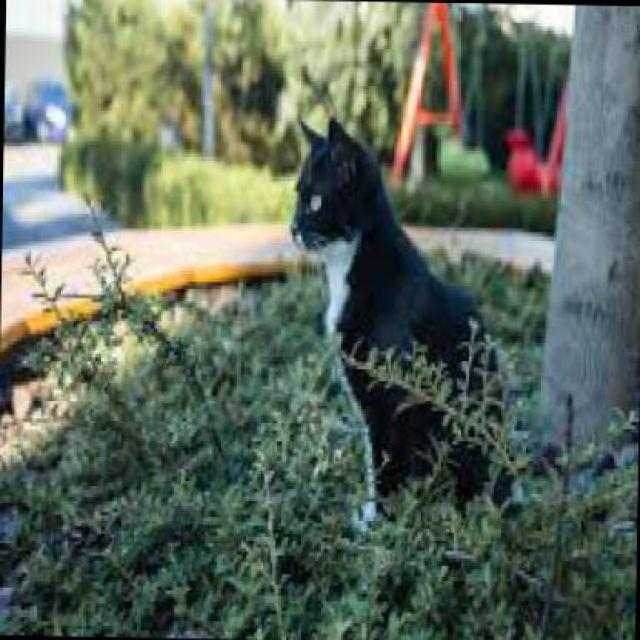animals: (276, 114, 522, 537)
